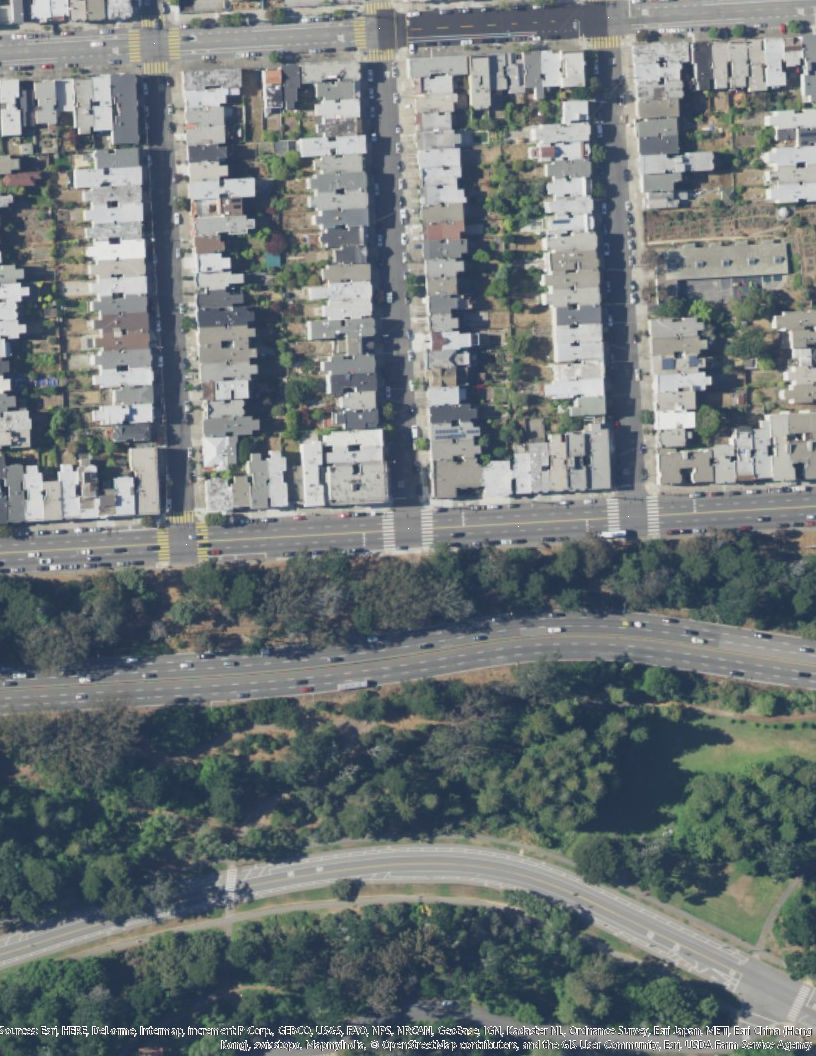zebracross: (646, 496, 661, 539), (605, 498, 621, 532), (419, 508, 432, 549), (155, 527, 168, 566), (587, 36, 625, 49), (128, 28, 142, 63), (382, 512, 394, 552), (353, 16, 367, 50), (168, 510, 196, 526), (196, 525, 208, 560), (168, 29, 181, 60), (140, 15, 166, 29), (143, 62, 169, 75), (367, 3, 395, 15), (369, 49, 393, 62)
